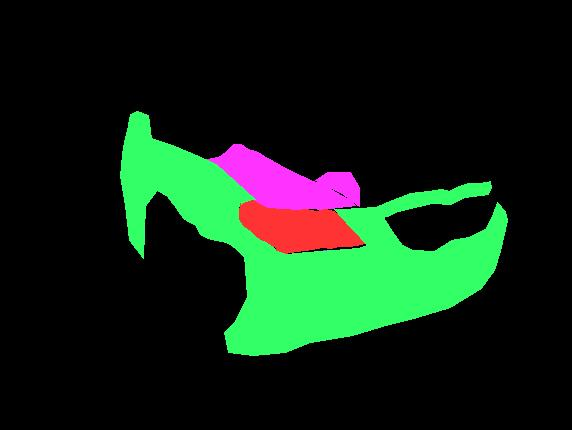Broken part: (224, 202, 507, 355), (120, 111, 278, 260), (334, 181, 491, 218)
Dent: (206, 144, 355, 209), (315, 172, 359, 206)
Missing part: (239, 200, 365, 253)
Scratch: (287, 263, 330, 276), (323, 250, 360, 263)
